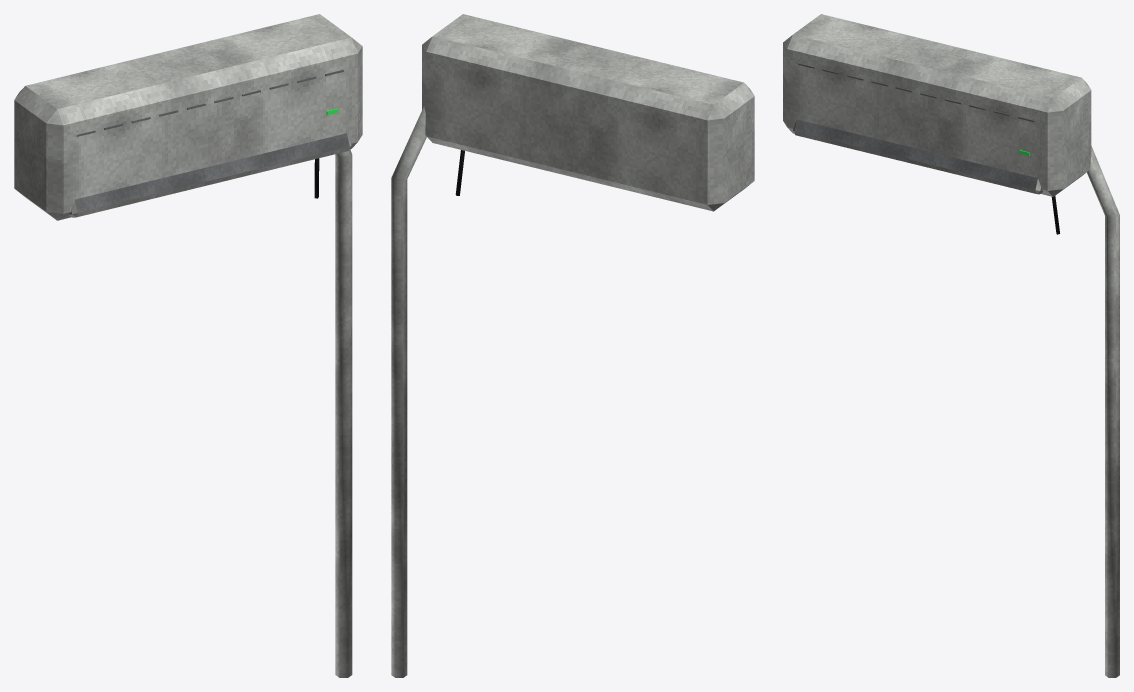
The model's file is Lab_AC.fbx.
3 renders of one model, left to right at view 1: azimuth 30°, elevation 25°; view 2: azimuth 150°, elevation 25°; view 3: azimuth 330°, elevation 25°, orthographic. The views are drawn at different scales.
Visible parts, largest first — view 1: Lab_AC; view 2: Lab_AC; view 3: Lab_AC.
Boxes of the visible parts, bbox=[...] form: Lab_AC: bbox=[14, 14, 362, 677]; Lab_AC: bbox=[391, 14, 754, 677]; Lab_AC: bbox=[783, 14, 1119, 677].
Size of the model in its own units: 0.9274 by 1.75 by 0.2387.
